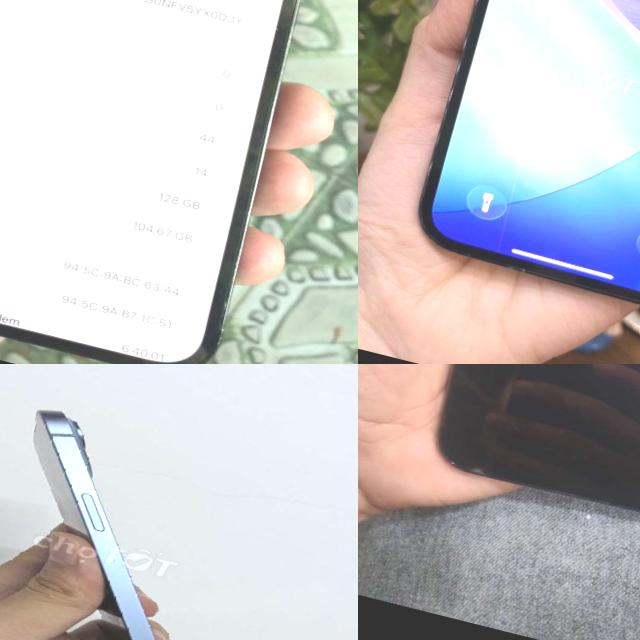screen_defect: (483, 0, 607, 251)
